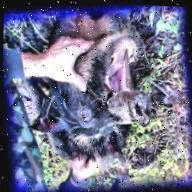boar: (12, 5, 160, 183)
